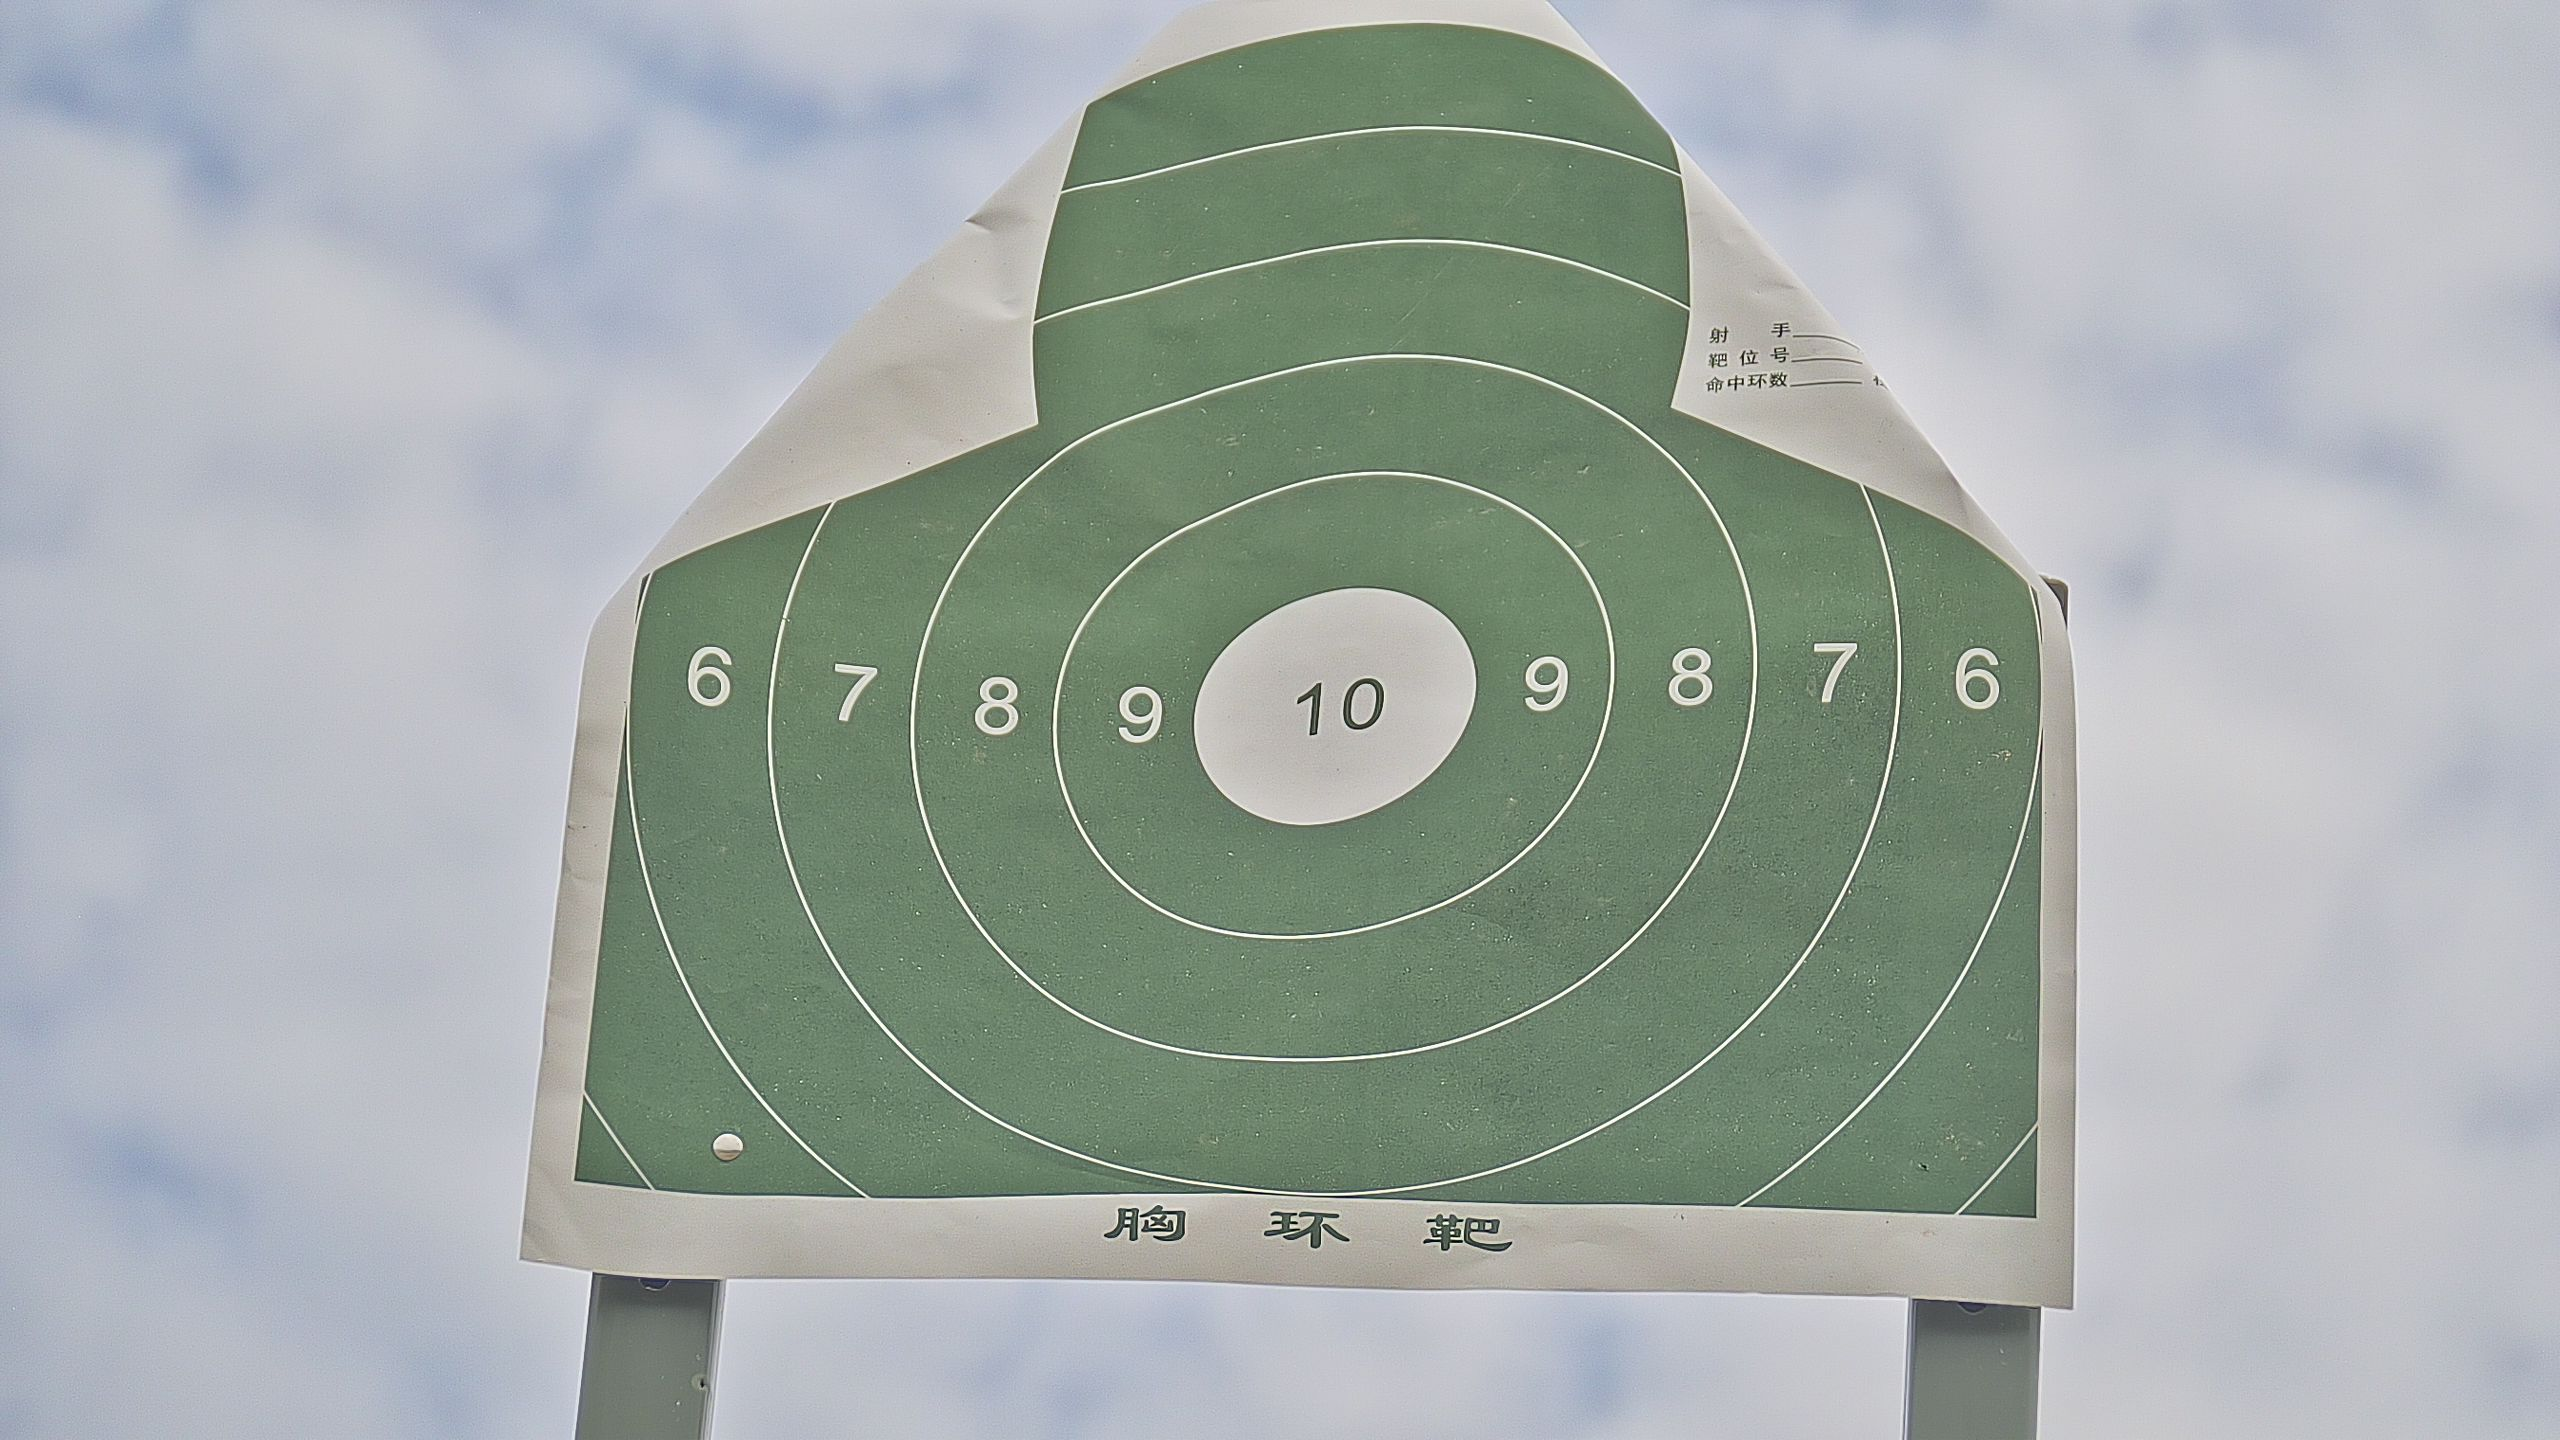kernel: (1327, 705, 1333, 710)
target: (571, 23, 2045, 1229)
ten: (1189, 587, 1482, 828)
